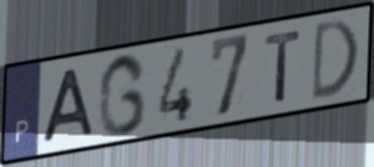4: (156, 45, 195, 125)
7: (210, 31, 251, 119)
A: (38, 65, 97, 146)
D: (309, 15, 361, 106)
G: (96, 50, 149, 139)
T: (264, 27, 304, 105)
